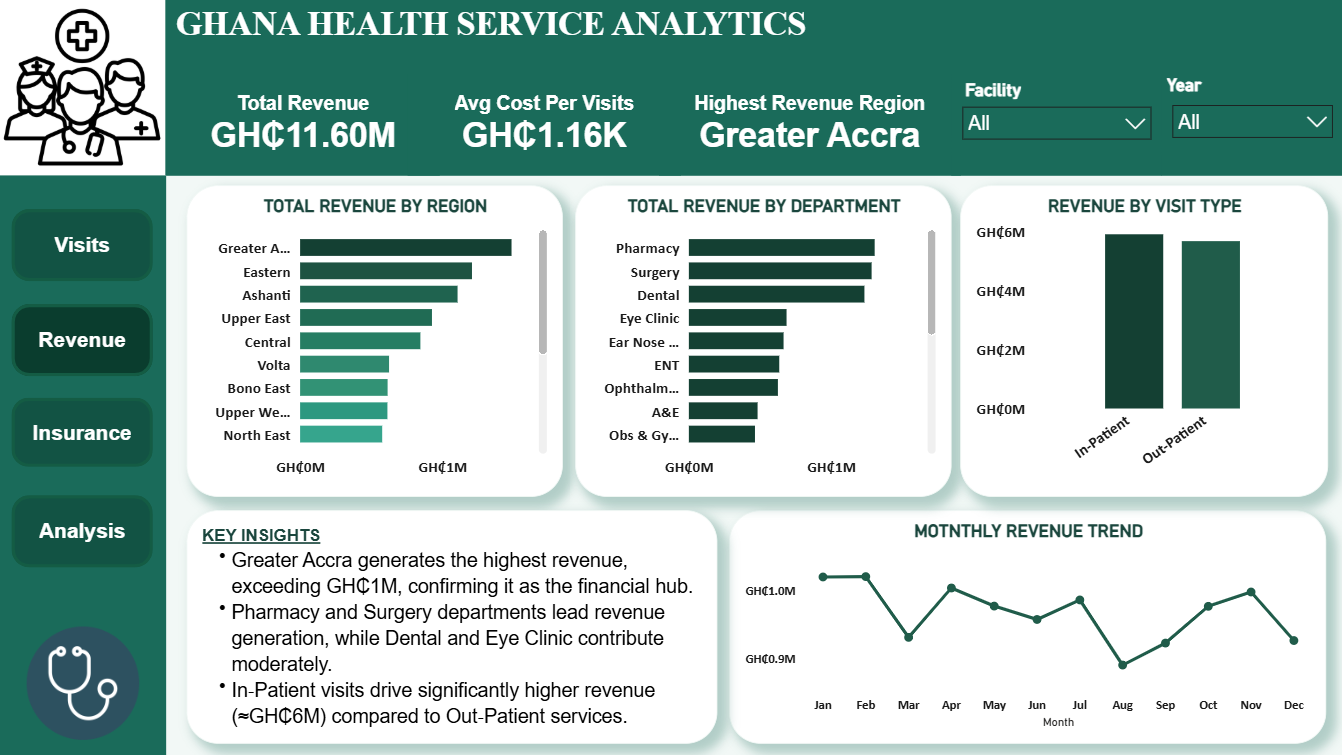

Layout of this report page (visuals, bound fields, positions):
{"tool":"powerbi","page":{"name":"Revenue","canvas":[1280,720],"ordinal":1},"visuals":[{"type":"clusteredBarChart","title":"TOTAL REVENUE BY REGION","fields":{"Category":["Regional Summary 2024.Region"],"Y":["Measures (2).Total Revenue"]},"box":[178.6,177.4,358.3,296.4],"z":0},{"type":"lineChart","title":"MOTNTHLY REVENUE TREND","fields":{"Category":["Date Table.Month"],"Y":["Measures (2).Total Revenue"]},"box":[695.6,486.7,569.1,222.3],"z":1000},{"type":"clusteredBarChart","title":"TOTAL REVENUE BY DEPARTMENT","fields":{"Category":["Patient Visits.Department"],"Y":["Measures (2).Total Revenue"]},"box":[548.8,177.4,358.3,296.4],"z":2000},{"type":"columnChart","title":"REVENUE BY VISIT TYPE","fields":{"Category":["Patient Visits.Visit_Type"],"Y":["Measures (2).Total Revenue"]},"box":[915.5,177.4,350,296.4],"z":3000},{"type":"shape","box":[0,0,1279.8,168.1],"z":4000},{"type":"textbox","box":[158.3,0,757.1,111.7],"z":5000},{"type":"shape","box":[0,133,159.5,587],"z":6000},{"type":"actionButton","box":[12,200.4,134.6,68.8],"z":7000},{"type":"actionButton","box":[12,379.8,134.6,65.8],"z":8000},{"type":"actionButton","box":[12,290.1,134.6,68.8],"z":9000},{"type":"image","box":[9,598.1,140.6,107.7],"z":10000},{"type":"image","box":[0,0,158.3,168.1],"z":11000},{"type":"actionButton","box":[12,472.5,134.6,68.8],"z":12000},{"type":"textbox","box":[178.2,486.7,505.9,222.3],"z":13000},{"type":"cardVisual","fields":{"Data":["Measures (2).Total Revenue"]},"box":[159.5,71.2,260.1,96.9],"z":14000},{"type":"cardVisual","fields":{"Data":["Measures (2).Avg Cost Per Visits"]},"box":[389,71.2,260.1,96.9],"z":15000},{"type":"cardVisual","fields":{"Data":["Measures (2).Highest Revenue Region"]},"box":[628.2,71.2,287.1,96.9],"z":16000},{"type":"slicer","title":"Year","fields":{"Values":["YearTable.Year"]},"box":[1106.8,71.2,173,96.9],"z":17000},{"type":"slicer","fields":{"Values":["Facility Directory.Facility_Name"]},"box":[906.8,71.2,200,96.9],"z":18000}]}

Visuals, with their boxes in screenshot pixels (x1, y1, x2, y2), scaled from the page's 1280x720 canvas onto the 1342x755 screenshot:
"TOTAL REVENUE BY REGION" clusteredBarChart: bbox=(187, 186, 563, 497)
"MOTNTHLY REVENUE TREND" lineChart: bbox=(729, 510, 1326, 743)
"TOTAL REVENUE BY DEPARTMENT" clusteredBarChart: bbox=(575, 186, 951, 497)
"REVENUE BY VISIT TYPE" columnChart: bbox=(960, 186, 1327, 497)
shape: bbox=(0, 0, 1341, 176)
textbox: bbox=(166, 0, 960, 117)
shape: bbox=(0, 139, 167, 754)
actionButton: bbox=(13, 210, 154, 282)
actionButton: bbox=(13, 398, 154, 467)
actionButton: bbox=(13, 304, 154, 376)
image: bbox=(9, 627, 157, 740)
image: bbox=(0, 0, 166, 176)
actionButton: bbox=(13, 495, 154, 568)
textbox: bbox=(187, 510, 717, 743)
cardVisual - Measures (2).Total Revenue: bbox=(167, 75, 440, 176)
cardVisual - Measures (2).Avg Cost Per Visits: bbox=(408, 75, 681, 176)
cardVisual - Measures (2).Highest Revenue Region: bbox=(659, 75, 960, 176)
"Year" slicer: bbox=(1160, 75, 1341, 176)
slicer - Facility Directory.Facility_Name: bbox=(951, 75, 1160, 176)
